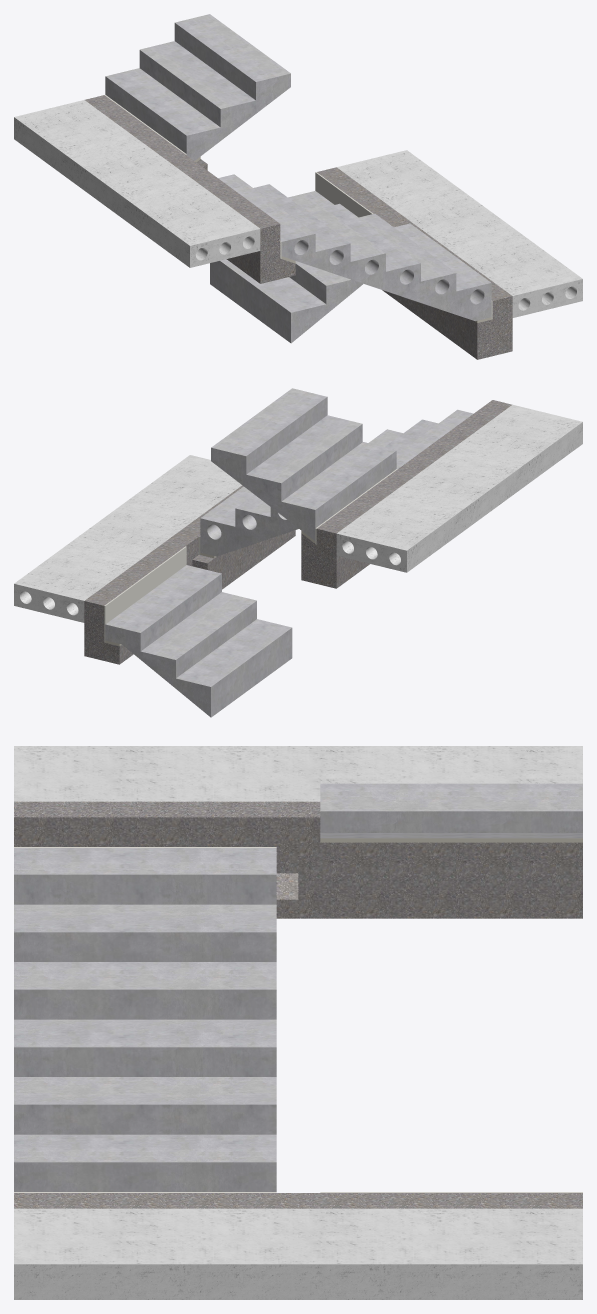
File: stair-flight-flush-unburied-01.glb
3 views of the same model, one above another, from view 1: azimuth 30°, elevation 25°; view 2: azimuth 150°, elevation 25°; view 3: azimuth 270°, elevation 25° (orthographic). The views are drawn at different scales.
Visible parts, largest first — view 1: 梯段, 上平台板, 下平台板, 上平台梁-梁腹对齐, 下平台梁-平肩凹口, 无需标注; view 2: 梯段, 上平台板, 下平台板, 下平台梁-平肩凹口, 上平台梁-梁腹对齐, 无需标注; view 3: 梯段, 下平台板, 上平台梁-梁腹对齐, 上平台板, 下平台梁-平肩凹口, 无需标注.
Part boxes in pixels (bbox=[...]): 梯段: bbox=[105, 14, 491, 343]; 上平台板: bbox=[14, 100, 260, 267]; 下平台板: bbox=[337, 150, 582, 317]; 上平台梁-梁腹对齐: bbox=[85, 95, 295, 283]; 下平台梁-平肩凹口: bbox=[317, 167, 512, 359]; 无需标注: bbox=[104, 94, 492, 322]; 梯段: bbox=[105, 388, 473, 717]; 上平台板: bbox=[336, 404, 582, 572]; 下平台板: bbox=[14, 455, 241, 622]; 下平台梁-平肩凹口: bbox=[84, 485, 295, 664]; 上平台梁-梁腹对齐: bbox=[301, 400, 511, 588]; 无需标注: bbox=[104, 469, 397, 646]; 梯段: bbox=[14, 783, 582, 1191]; 下平台板: bbox=[14, 1208, 582, 1299]; 上平台梁-梁腹对齐: bbox=[14, 801, 582, 918]; 上平台板: bbox=[14, 746, 582, 801]; 下平台梁-平肩凹口: bbox=[14, 1193, 582, 1208]; 无需标注: bbox=[14, 838, 582, 1192].
Bounding box in the file's own units: 3.35 × 2.2 × 2.6.
Materials: 7 (5 with a texture image).
